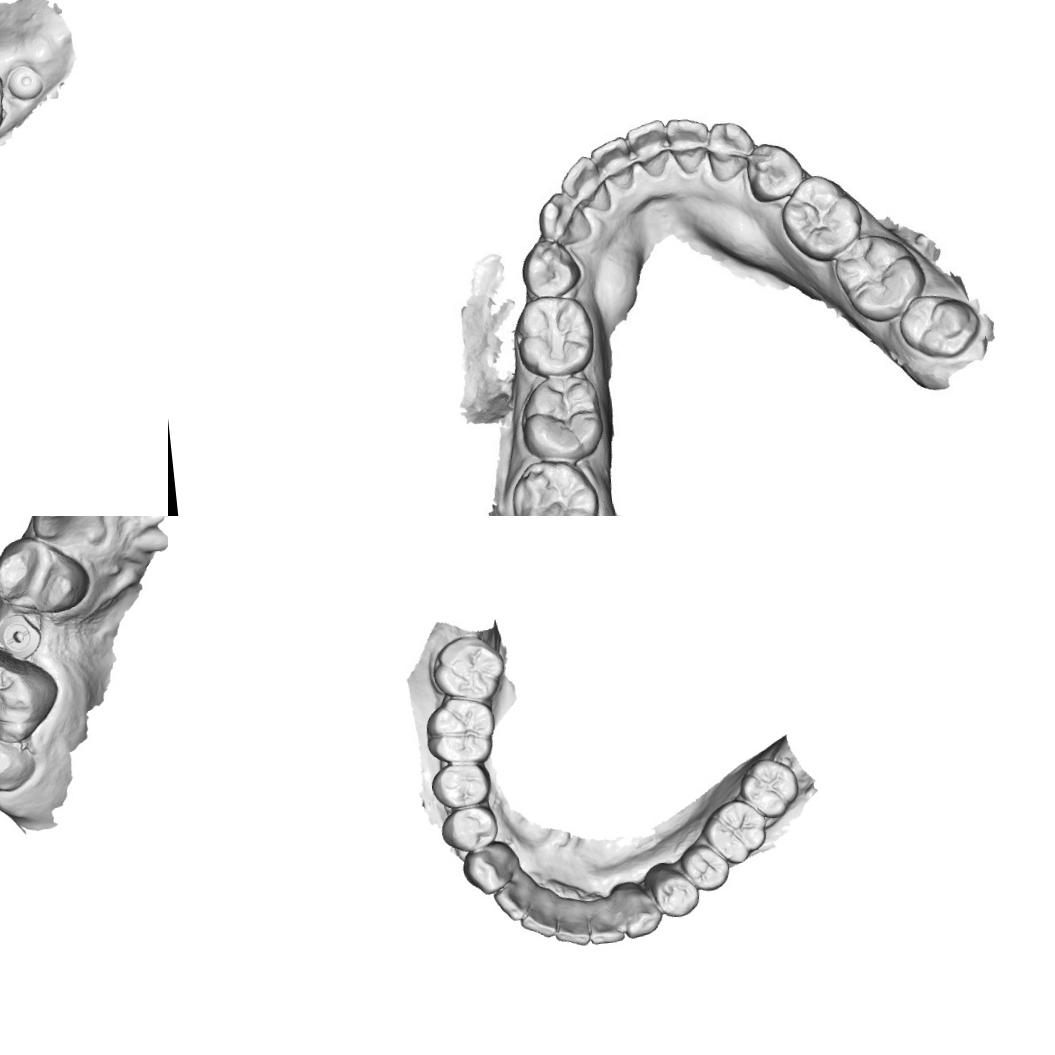canine: (534, 188, 594, 250), (702, 118, 758, 184), (459, 840, 516, 898), (26, 516, 107, 552), (617, 884, 666, 940)
implant: (3, 62, 48, 104)
implant_minus: (0, 610, 45, 662)
incisor: (556, 152, 618, 217), (662, 113, 716, 178), (623, 116, 676, 181), (586, 134, 636, 195), (515, 887, 561, 942), (492, 868, 531, 924), (551, 899, 592, 950), (585, 898, 626, 946)
molar: (829, 230, 927, 328), (776, 169, 868, 267), (514, 371, 608, 464), (510, 292, 600, 381), (893, 288, 985, 364), (0, 640, 64, 748), (428, 631, 509, 709), (505, 453, 604, 516), (421, 693, 500, 769), (698, 795, 772, 870), (735, 754, 802, 822), (0, 713, 37, 798)
premolar: (0, 532, 92, 621), (742, 136, 810, 206), (517, 236, 584, 300), (438, 802, 502, 856), (428, 759, 494, 810), (648, 861, 702, 920), (676, 839, 732, 895)
